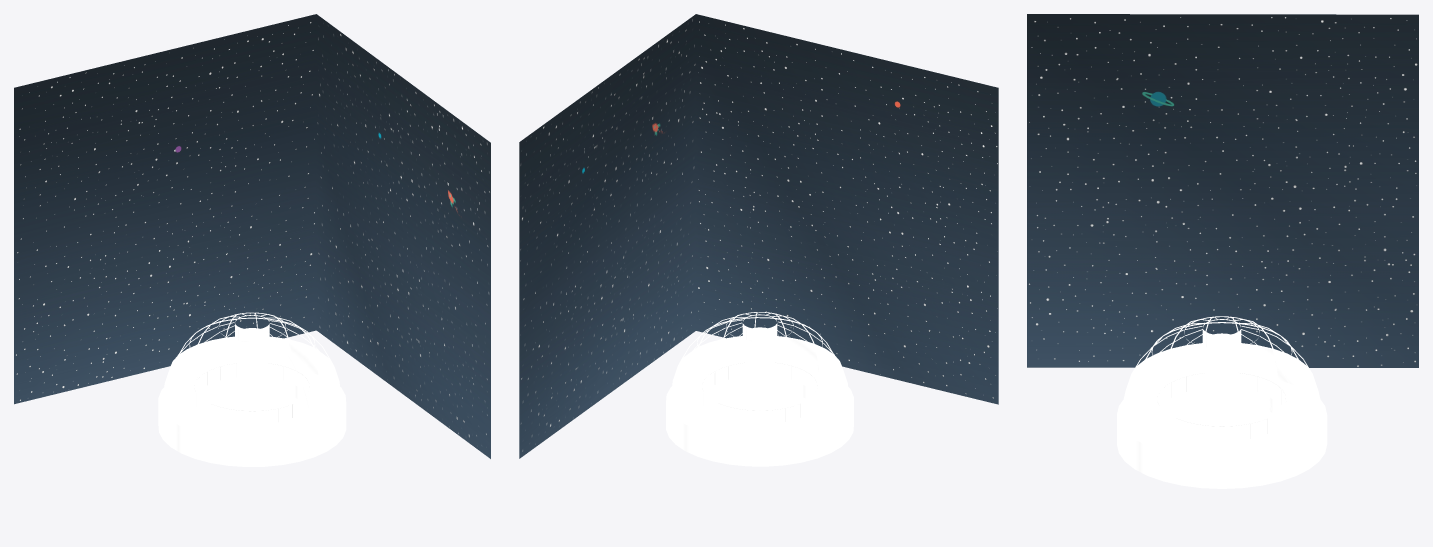
The model's file is Futuristic_Lab_Mockup.gltf.
3 renders of one model, left to right at view 1: azimuth 30°, elevation 25°; view 2: azimuth 150°, elevation 25°; view 3: azimuth 270°, elevation 25°, orthographic. The views are drawn at different scales.
Visible parts, largest first — view 1: Cylinder002; view 2: Cylinder002; view 3: Cylinder002.
Part boxes in pixels (left/top/right/bottom): Cylinder002: left=14, top=14, right=490, bottom=466; Cylinder002: left=519, top=14, right=998, bottom=466; Cylinder002: left=1027, top=14, right=1418, bottom=488.
Size of the model in its own units: 22.93 by 22.85 by 22.96.
9 materials, 5 textured.
